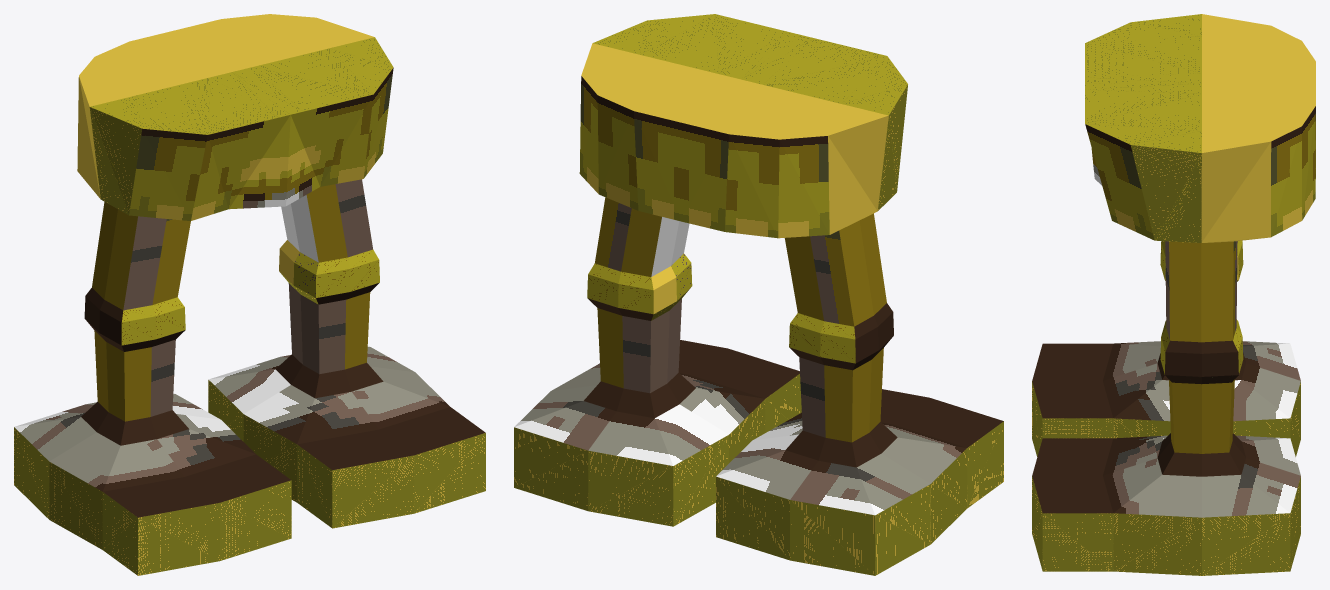
3 renders of one model, left to right at view 1: azimuth 30°, elevation 25°; view 2: azimuth 150°, elevation 25°; view 3: azimuth 270°, elevation 25°, orthographic. The views are drawn at different scales.
Parts seen in each view (by area): view 1: Cube.021_Cube.023; view 2: Cube.021_Cube.023; view 3: Cube.021_Cube.023.
Boxes of the visible parts, <box> form: Cube.021_Cube.023: <box>14,14,485,575</box>; Cube.021_Cube.023: <box>514,14,1003,575</box>; Cube.021_Cube.023: <box>1032,14,1315,575</box>.
Bounding box in the file's own units: 0.5818 × 0.6125 × 0.3906.
